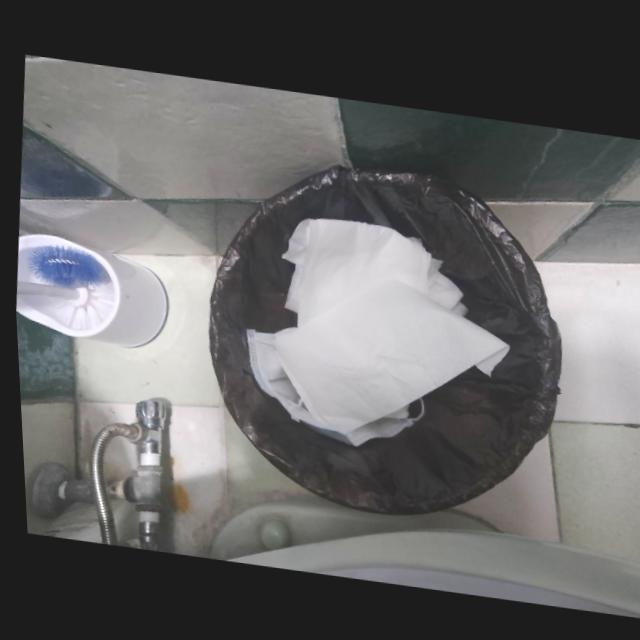paper: (269, 277, 506, 431), (278, 215, 464, 324)
